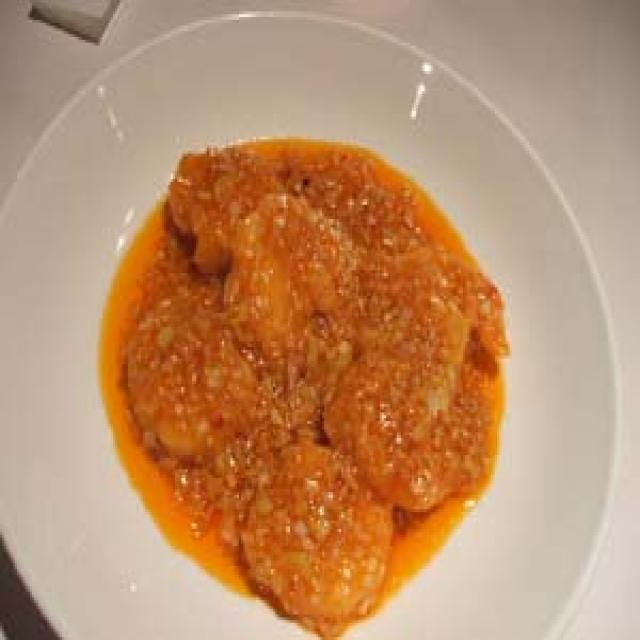熟制海鲜: (0, 14, 640, 640)
